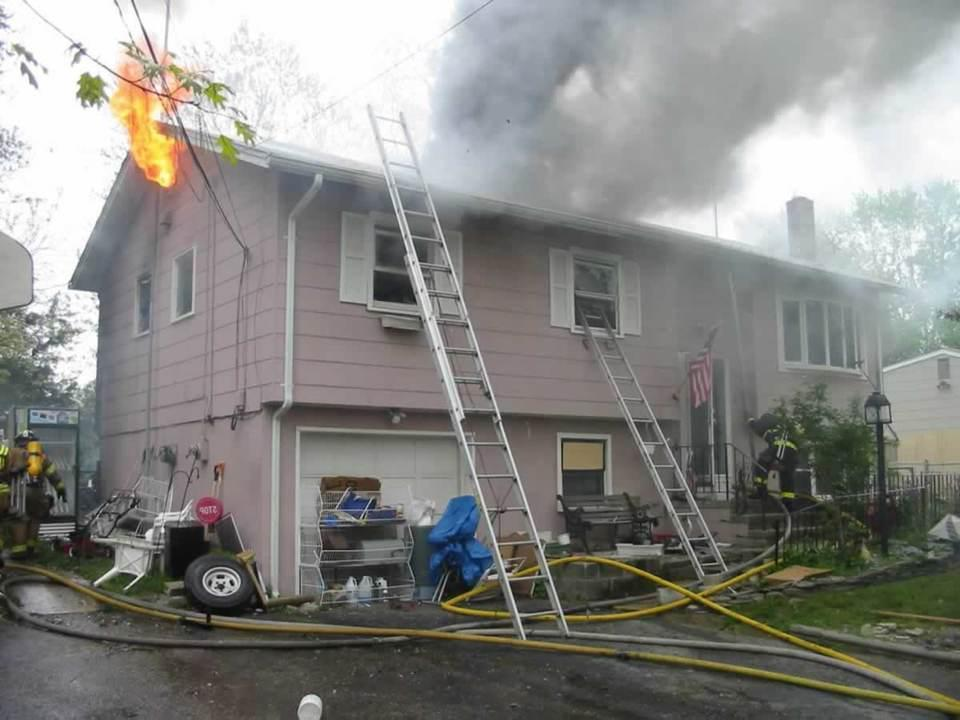Fire: (105, 67, 190, 194)
